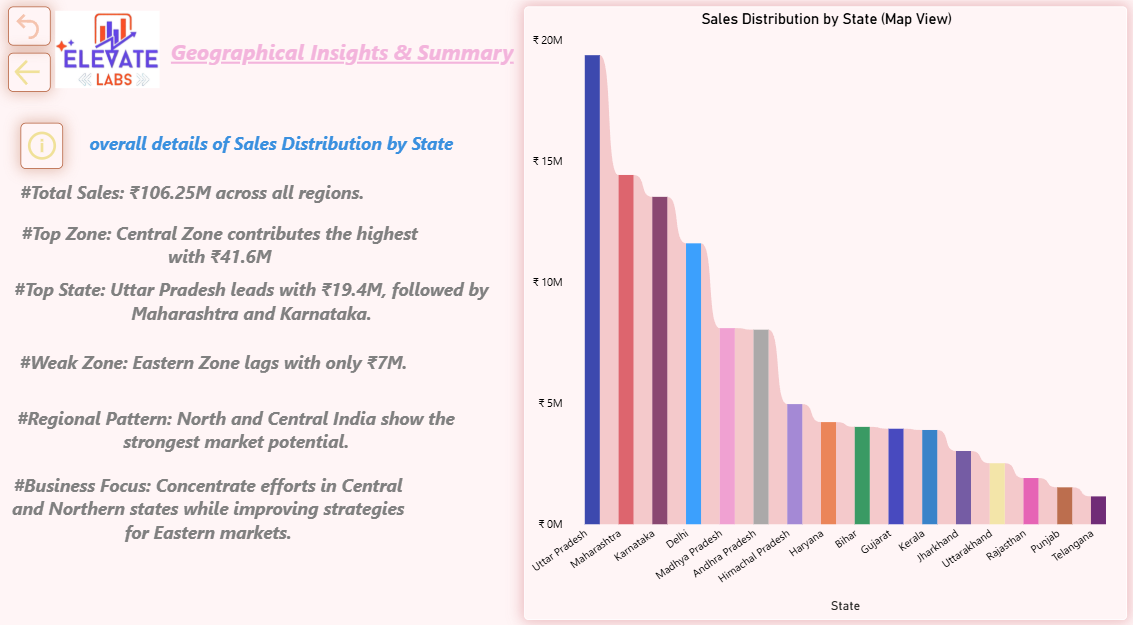

The page's visual inventory and layout, read from the dashboard file:
{"tool":"powerbi","page":{"name":"Geographical Insights","canvas":[1280,720],"ordinal":2},"visuals":[{"type":"ribbonChart","title":"Sales Distribution by State (Map View)","fields":{"Category":["Diwali Sales Data.State"],"Y":["Sum(Diwali Sales Data.Amount)"]},"box":[592.8,13.7,679.2,691.6],"z":0},{"type":"actionButton","box":[11.8,13.6,48,44.4],"z":1000},{"type":"actionButton","box":[11.8,66.1,48,44.4],"z":2000},{"type":"image","box":[49.3,14.1,147.9,97.2],"z":3000},{"type":"actionButton","box":[172.9,39.8,429.5,50.8],"z":4000},{"type":"actionButton","box":[0,197.6,437.7,50.8],"z":5000},{"type":"actionButton","box":[4.1,301.9,562.6,87.8],"z":6000},{"type":"actionButton","box":[0,248.4,499.5,67.2],"z":7000},{"type":"actionButton","box":[0,378.7,485.8,70],"z":8000},{"type":"actionButton","box":[0,448.7,536.5,82.3],"z":9000},{"type":"actionButton","box":[4.1,505,465.2,146.8],"z":10000},{"type":"actionButton","box":[78.2,124.9,458.3,83.7],"z":11000},{"type":"actionButton","box":[24.7,145.5,48,52.1],"z":12000}]}

Visuals, with their boxes in screenshot pixels (x1, y1, x2, y2), scaled from the page's 1280x720 canvas onto the 1133x625 screenshot:
"Sales Distribution by State (Map View)" ribbonChart: 525,12,1126,612
actionButton: 10,12,53,50
actionButton: 10,57,53,96
image: 44,12,175,97
actionButton: 153,35,533,79
actionButton: 0,172,387,216
actionButton: 4,262,502,338
actionButton: 0,216,442,274
actionButton: 0,329,430,389
actionButton: 0,389,475,461
actionButton: 4,438,415,566
actionButton: 69,108,475,181
actionButton: 22,126,64,172
